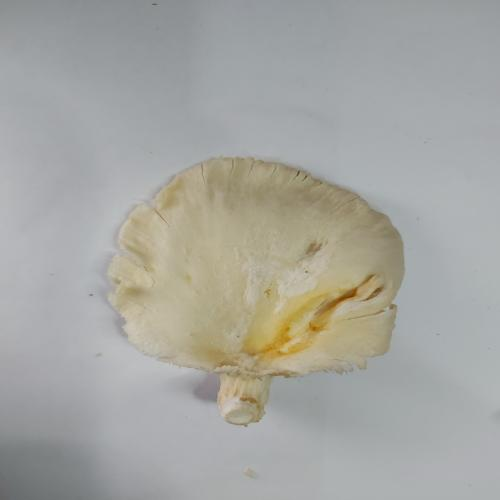Oyster Mushroom: (105, 155, 405, 427)
